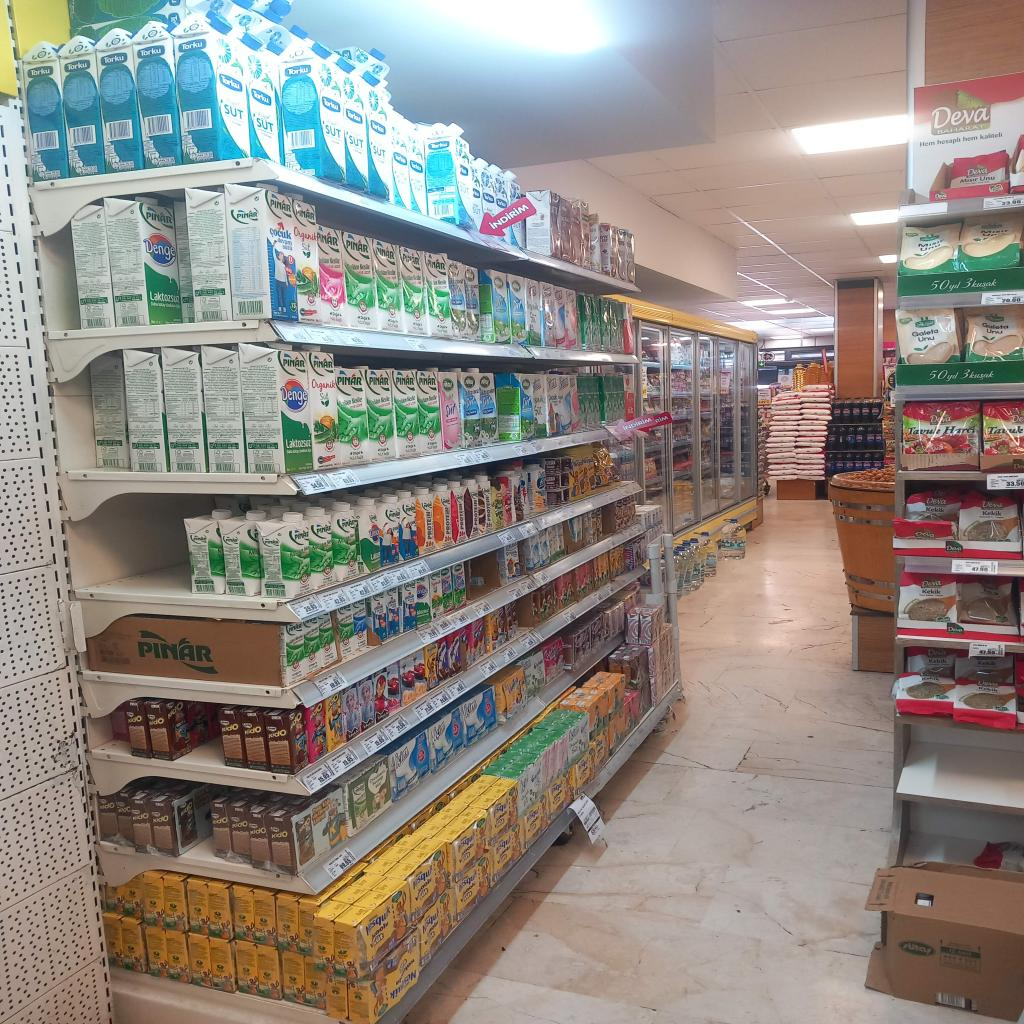price_tag: (572, 800, 614, 846), (272, 321, 314, 345), (294, 474, 330, 496), (306, 326, 340, 348), (337, 325, 369, 348), (380, 715, 412, 738), (360, 730, 390, 754), (322, 854, 362, 872), (281, 598, 321, 615), (291, 770, 337, 784), (427, 685, 450, 712), (312, 674, 350, 690), (410, 697, 435, 721), (444, 677, 468, 702), (327, 471, 366, 486), (494, 645, 519, 666), (498, 342, 524, 362), (325, 757, 367, 769), (404, 336, 432, 353), (558, 606, 584, 624), (344, 583, 374, 598), (519, 631, 544, 649), (316, 593, 350, 606), (478, 660, 502, 678), (469, 599, 495, 615), (470, 446, 490, 466), (452, 455, 481, 467), (372, 574, 391, 592), (390, 572, 412, 587), (497, 532, 522, 545), (416, 626, 438, 640), (413, 562, 434, 576), (572, 348, 590, 364), (505, 586, 523, 602), (531, 569, 549, 585), (511, 443, 532, 456), (614, 571, 630, 588), (536, 515, 554, 530), (456, 611, 473, 626), (550, 436, 568, 450), (434, 619, 453, 632), (587, 588, 601, 604), (601, 430, 619, 442), (576, 432, 590, 447), (598, 491, 614, 504), (534, 348, 551, 360), (602, 537, 619, 549), (516, 581, 534, 592), (521, 524, 537, 536), (554, 347, 568, 360), (604, 580, 614, 597), (630, 482, 646, 492), (620, 530, 636, 540), (618, 487, 631, 499), (566, 434, 577, 448), (555, 510, 567, 522), (584, 502, 600, 510), (634, 525, 648, 534), (533, 442, 543, 454), (566, 508, 576, 518)
product: (300, 44, 346, 178), (207, 23, 246, 162), (262, 189, 299, 321), (278, 344, 312, 472), (248, 32, 276, 174), (390, 848, 452, 907), (433, 136, 474, 221), (335, 368, 369, 469), (429, 813, 485, 873), (346, 896, 402, 954), (293, 798, 347, 854), (313, 346, 338, 466), (366, 961, 429, 1008), (463, 784, 521, 834), (366, 92, 394, 195), (348, 64, 370, 194), (300, 198, 322, 326), (274, 516, 310, 594), (344, 232, 372, 330), (392, 370, 422, 458), (330, 505, 364, 582), (366, 368, 395, 456), (375, 233, 401, 331), (402, 245, 430, 335), (346, 778, 392, 832), (525, 733, 566, 787), (500, 757, 546, 803), (428, 251, 452, 337), (323, 228, 344, 323), (395, 112, 414, 215), (418, 371, 441, 454), (312, 510, 334, 594), (460, 370, 483, 449), (554, 710, 592, 757), (446, 258, 467, 342), (416, 910, 466, 944), (384, 747, 426, 787), (512, 372, 536, 441), (462, 695, 499, 739), (428, 717, 466, 758), (442, 370, 461, 450), (480, 374, 503, 440), (460, 264, 480, 338), (447, 872, 498, 901), (416, 122, 432, 214), (584, 206, 607, 270), (280, 625, 306, 681), (412, 492, 436, 552), (508, 274, 529, 342), (387, 497, 408, 564), (367, 504, 387, 571), (450, 483, 473, 541), (492, 267, 510, 341), (437, 486, 458, 548), (496, 672, 524, 718), (575, 691, 610, 727), (579, 376, 602, 430), (549, 284, 568, 348), (286, 714, 308, 768), (592, 669, 624, 706), (526, 459, 548, 512), (487, 837, 527, 866), (610, 650, 645, 683), (600, 599, 626, 642), (317, 615, 339, 665), (546, 375, 564, 435), (304, 619, 324, 673), (474, 480, 493, 535), (538, 282, 554, 347), (532, 373, 548, 438), (474, 159, 488, 232), (337, 695, 361, 737), (566, 628, 590, 670), (602, 372, 622, 422), (336, 606, 356, 656), (500, 474, 518, 526), (308, 708, 326, 760), (572, 758, 605, 786), (520, 654, 543, 694), (607, 299, 625, 350), (636, 604, 663, 638), (606, 721, 642, 745), (543, 643, 564, 684), (584, 617, 606, 655), (614, 229, 630, 280), (386, 665, 403, 713), (359, 680, 376, 727), (591, 296, 605, 353), (566, 376, 580, 433), (560, 197, 572, 261), (549, 193, 560, 262), (565, 289, 578, 347), (492, 165, 508, 212), (399, 658, 416, 702), (325, 698, 341, 744), (553, 778, 576, 810), (653, 671, 685, 694), (372, 591, 387, 640), (602, 226, 616, 277), (373, 676, 389, 720), (522, 804, 549, 829), (439, 566, 454, 610), (642, 511, 657, 555), (424, 645, 438, 692), (472, 622, 488, 663), (500, 604, 519, 638), (352, 601, 366, 647), (416, 578, 430, 624), (386, 589, 399, 637), (651, 641, 677, 665), (452, 564, 466, 608), (624, 304, 636, 354), (625, 698, 658, 716), (504, 546, 521, 580), (495, 480, 506, 532), (550, 459, 563, 503), (429, 572, 441, 619), (404, 580, 415, 631), (414, 652, 426, 698), (573, 204, 582, 265), (490, 612, 502, 654), (446, 638, 459, 676), (625, 376, 636, 419), (580, 298, 589, 348), (592, 508, 606, 540), (570, 455, 580, 499), (436, 641, 446, 685), (575, 570, 590, 598), (460, 628, 472, 662), (528, 592, 540, 624), (540, 530, 550, 568), (584, 456, 594, 492), (530, 536, 540, 570), (540, 590, 550, 622), (607, 552, 618, 581), (549, 584, 559, 615), (616, 548, 628, 572), (614, 502, 623, 530), (626, 540, 635, 568), (574, 519, 582, 547), (562, 578, 570, 606), (588, 563, 596, 590), (597, 558, 605, 582), (590, 514, 596, 543), (636, 539, 642, 566), (623, 500, 628, 528), (631, 496, 632, 527)
